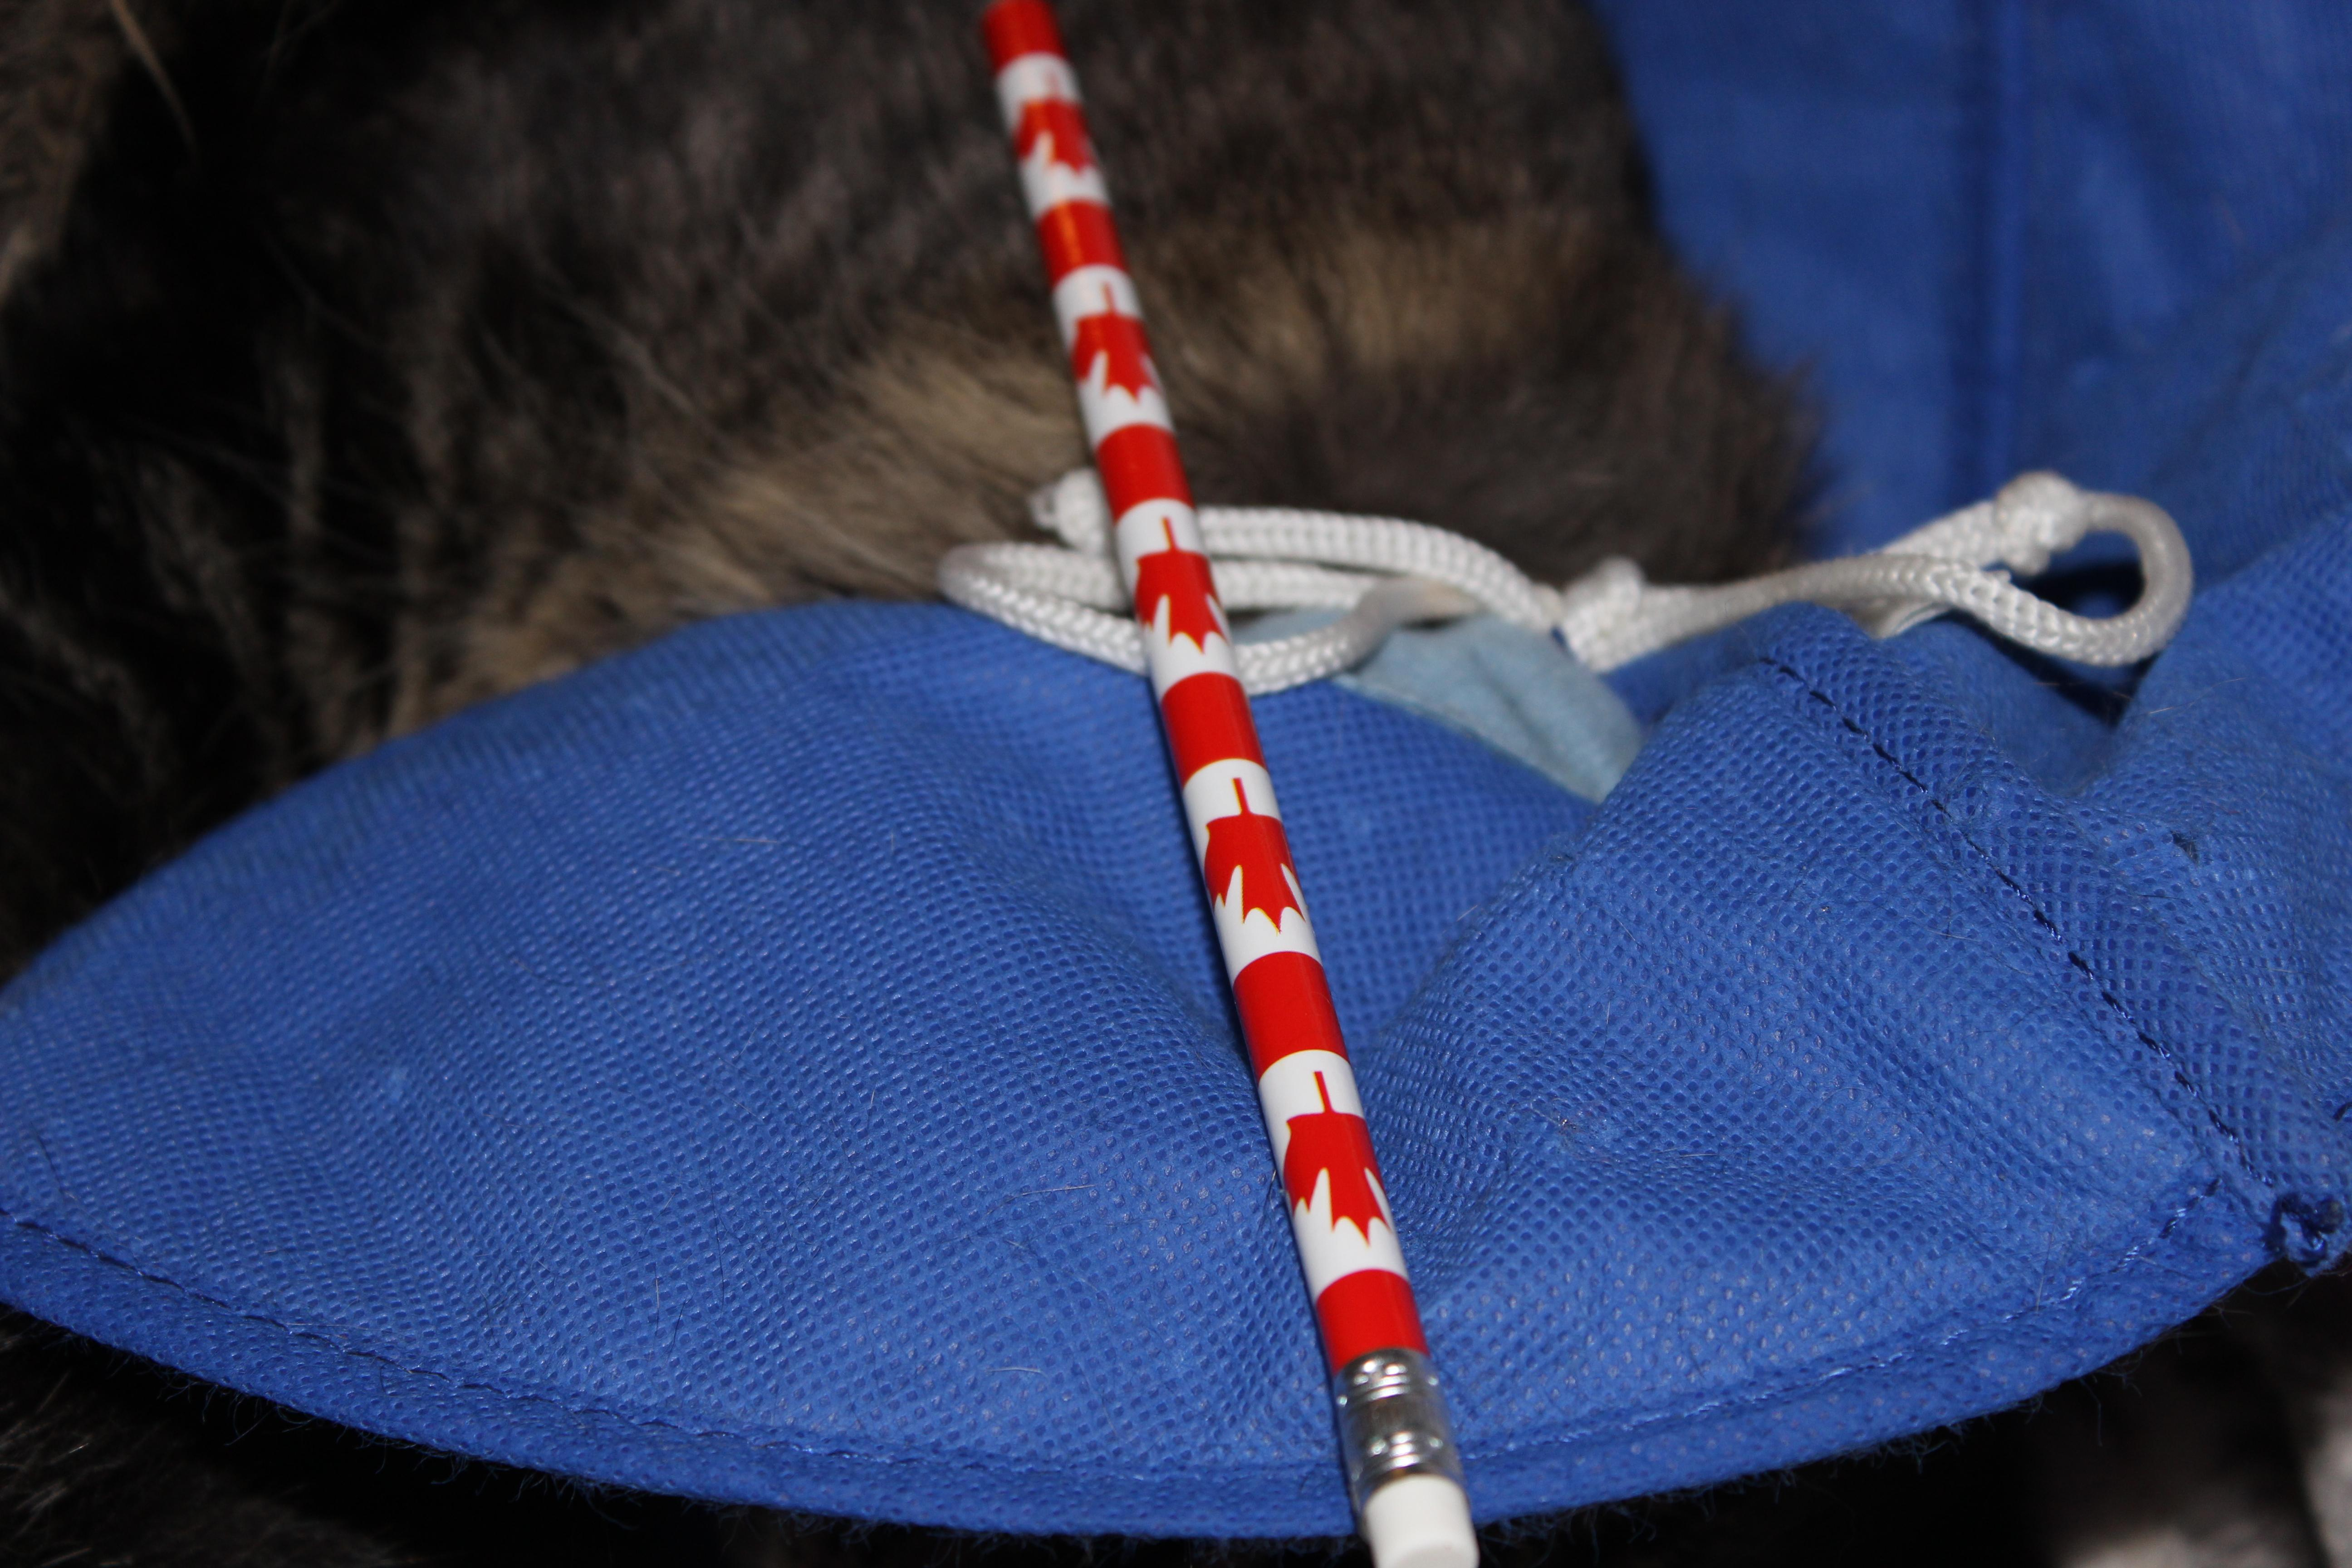canadaPencil: (906, 0, 1545, 1568)
